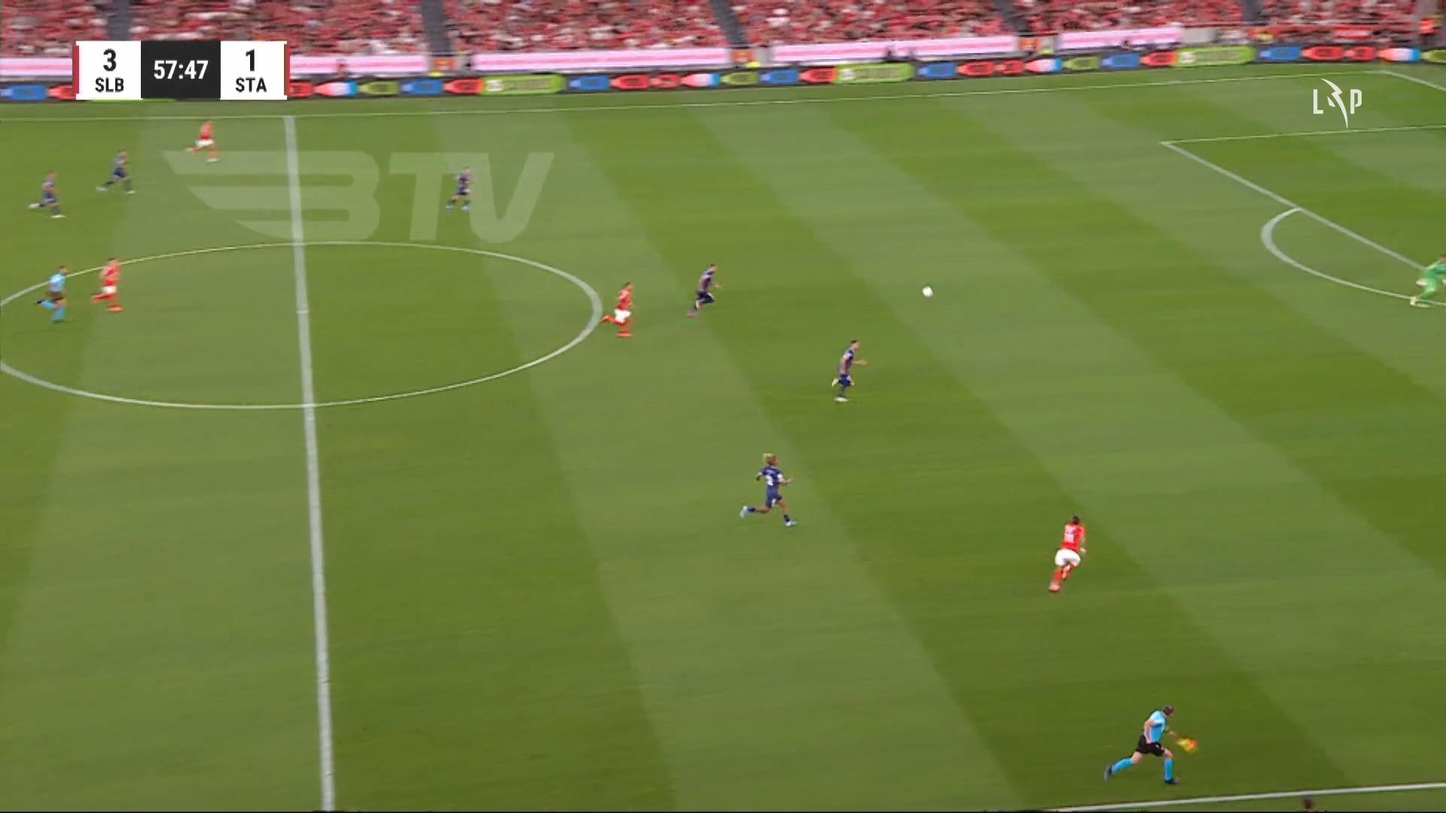ball: (921, 285, 932, 297)
goalkeeper: (1408, 253, 1444, 307)
player: (738, 452, 798, 527), (1048, 514, 1088, 592), (831, 338, 867, 402), (599, 280, 635, 337), (686, 263, 721, 317), (95, 148, 136, 194), (27, 170, 66, 218), (91, 256, 123, 312), (185, 118, 218, 163), (445, 165, 473, 211)
referee: (1102, 703, 1183, 785), (35, 263, 69, 322)
